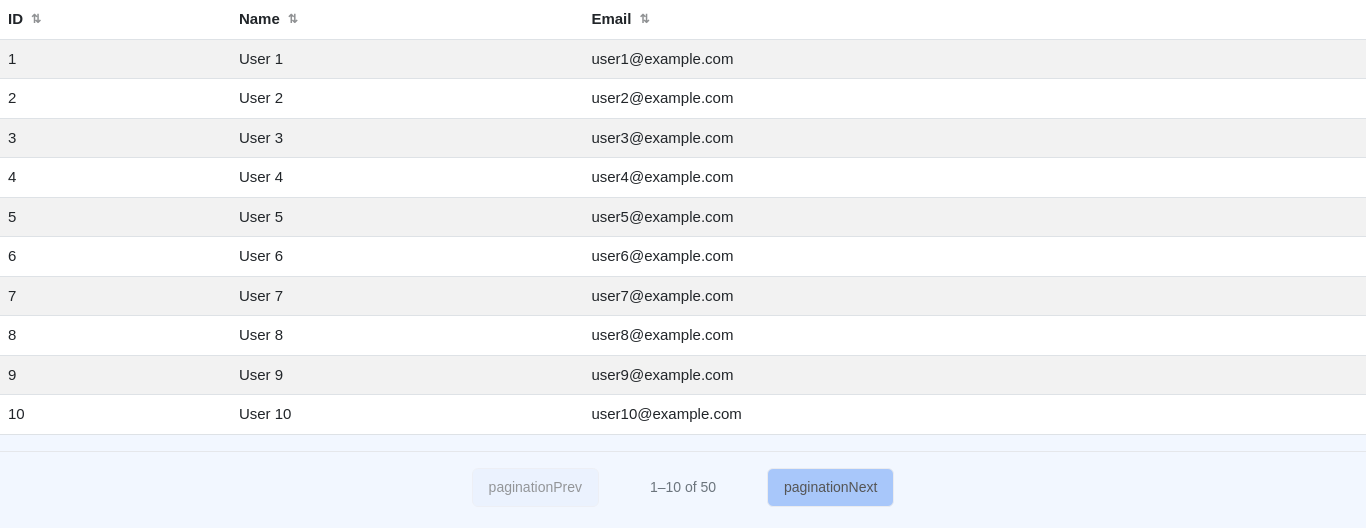
Test: DataTable - Pagination Integration › Pagination Controls Integration › manages internal page state when uncontrolled
Expected: the text "User 1" is shown, [231,39,584,78]
Note: Click next
Click the button with aria-label "paginationNextLabel".
click(831, 487)  # box [767,468,894,506]
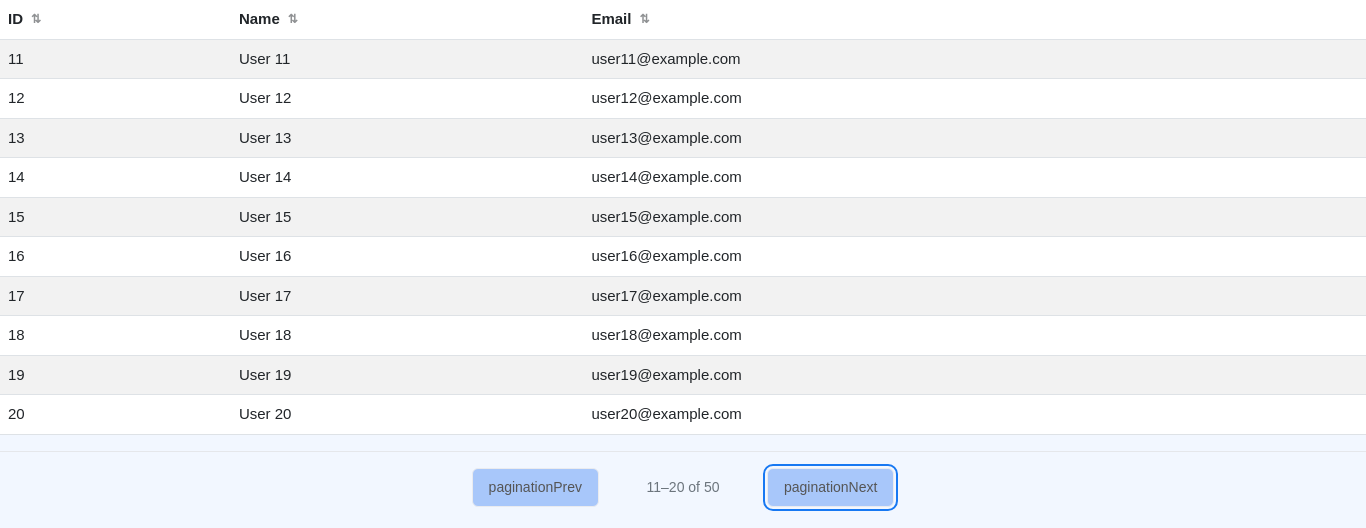
Result: the text "User 11" is shown at [231,39,584,78]
